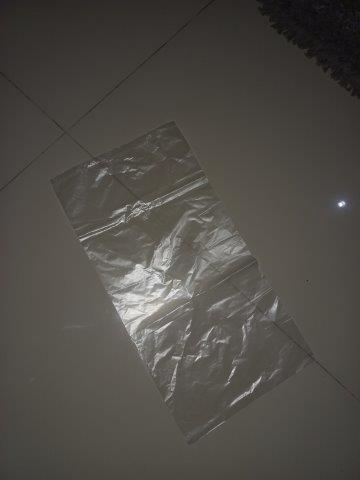plastik: (51, 122, 315, 447)
